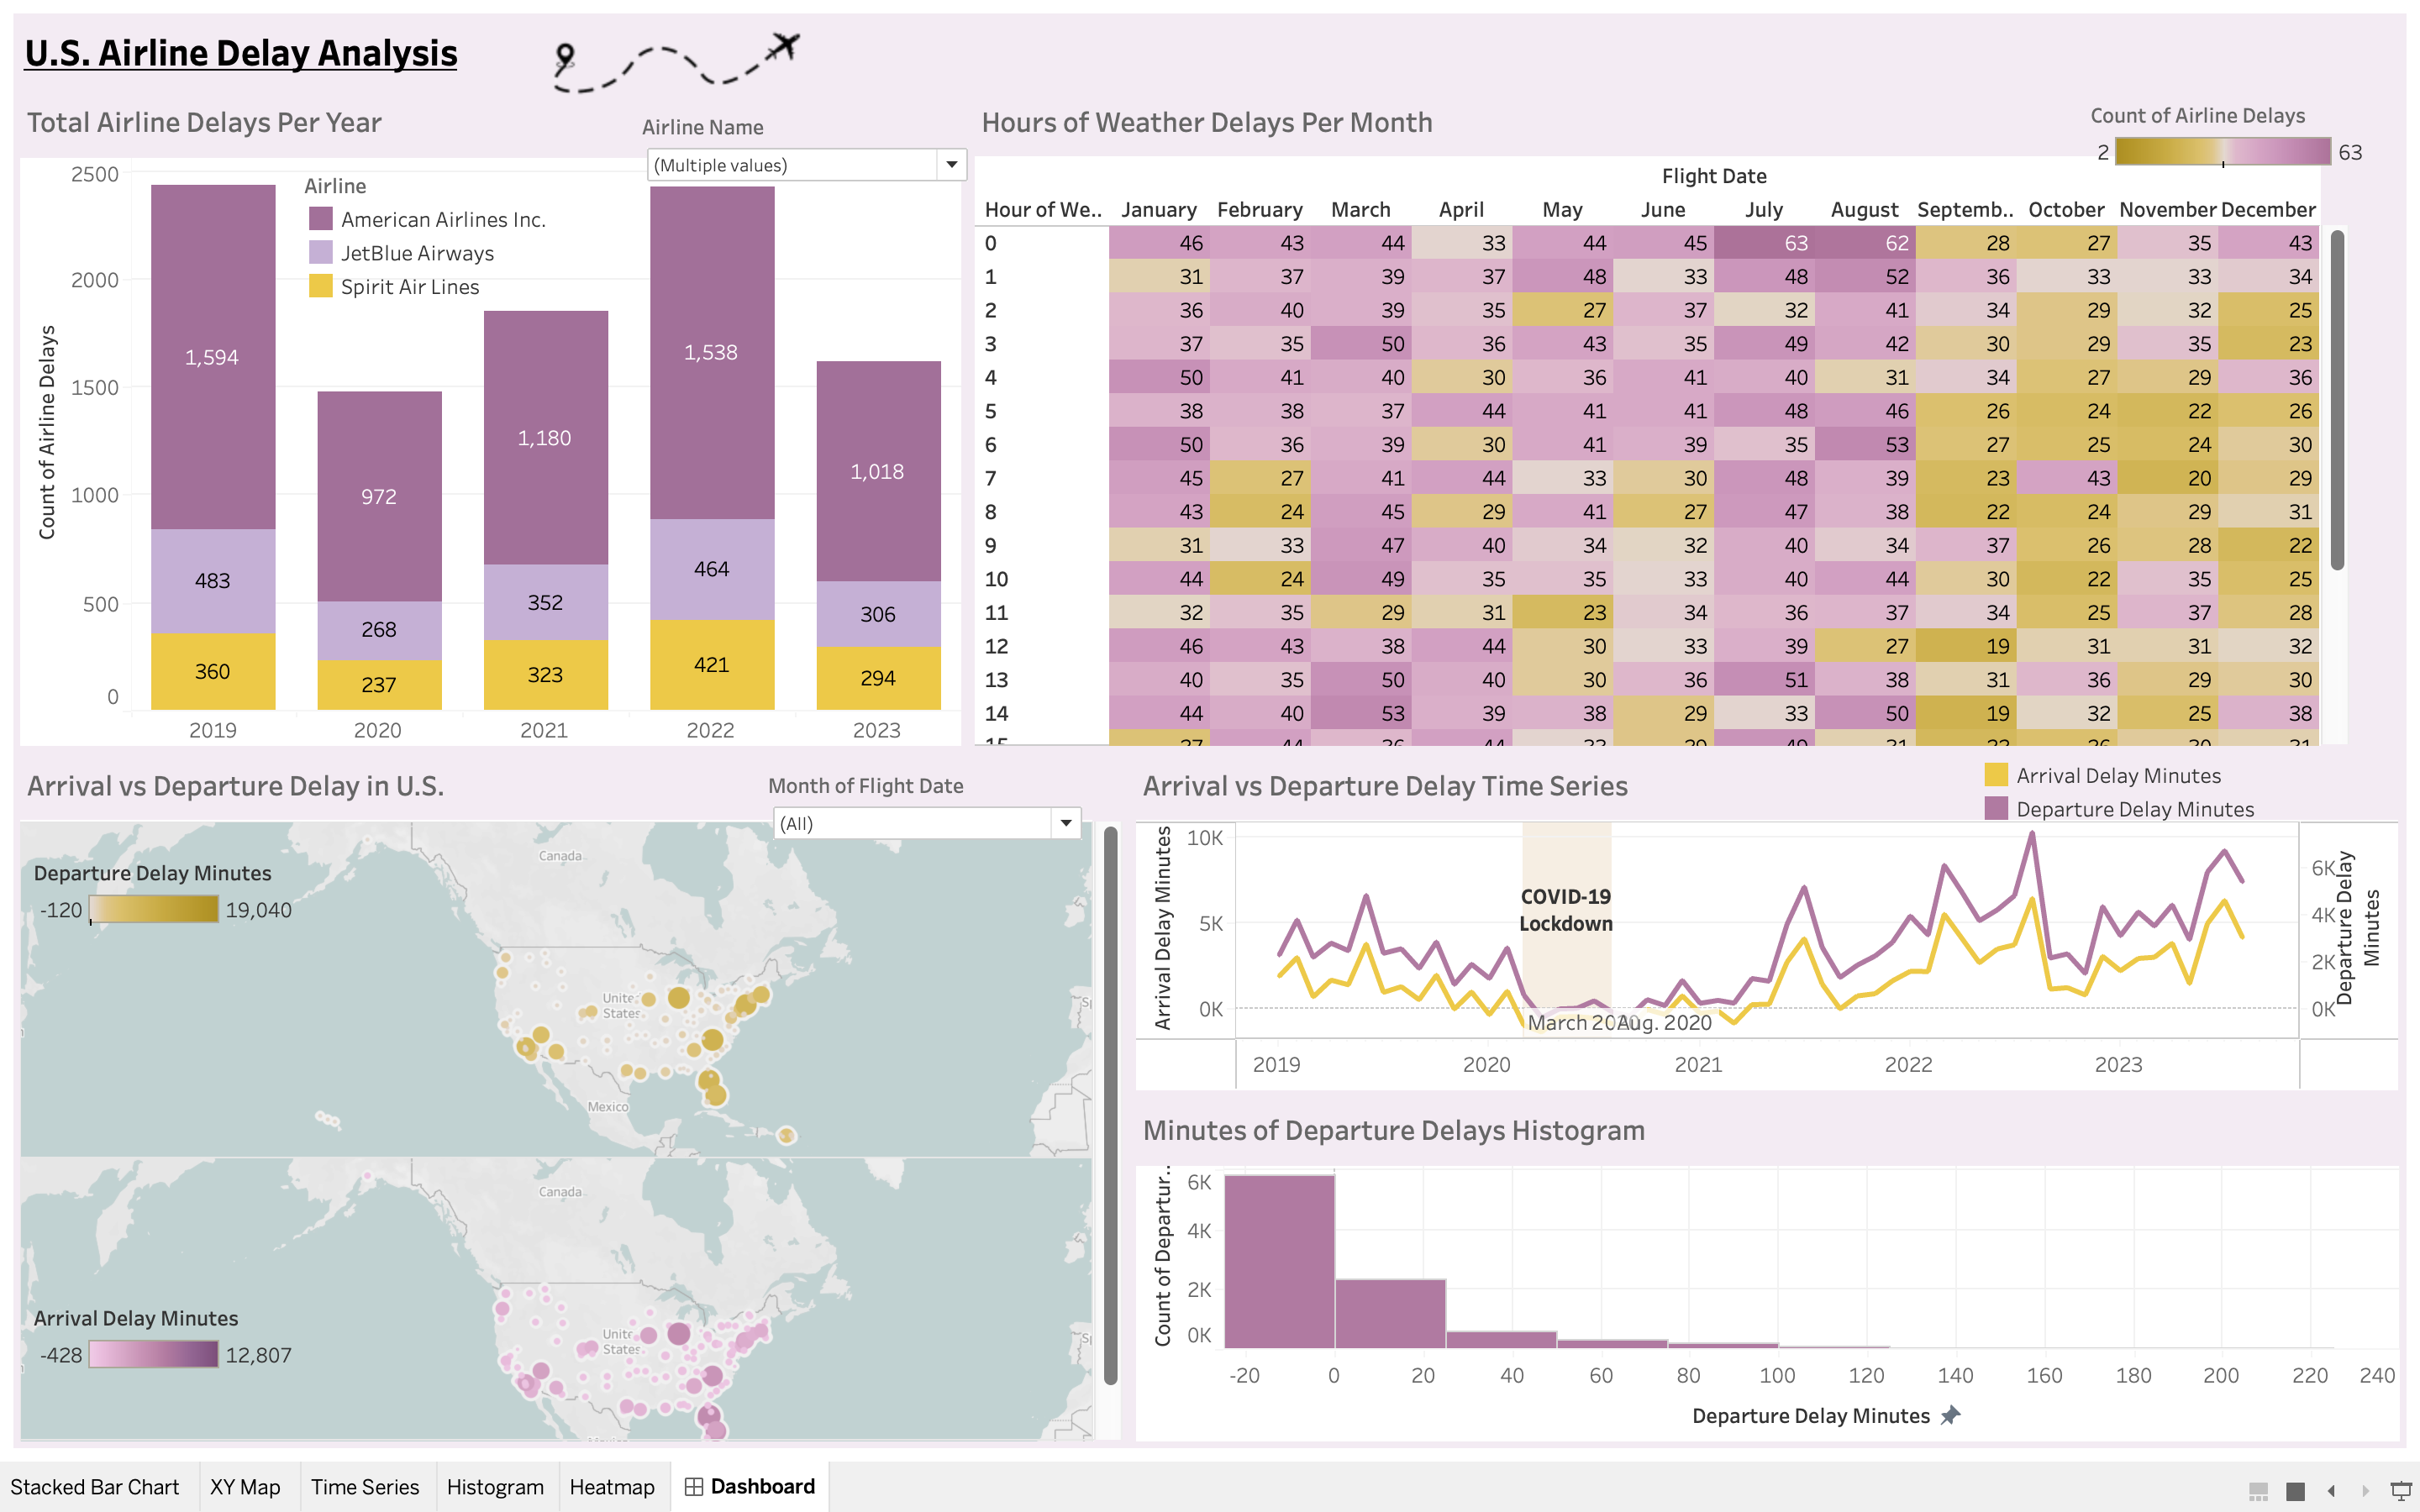

This screenshot's page, from the dashboard's own definition file:
{"tool":"tableau","page":{"name":"Dashboard","canvas":[1000,1000],"units":"permille","ordinal":0},"visuals":[{"type":"text","box":[6.5,11.4,987.1,51.8]},{"type":"filter","title":"Stacked Bar Chart","param":"[federated.0xvhp291h96joa11bovfc1v546i7].[none:Airline_Name:nk]","box":[221.3,50.7,136.7,64.4]},{"type":"worksheet","title":"Stacked Bar Chart","mark":"Bar","rows":["Airline Delays.csv_3B6A3B30201E4E5BA97D2194F4AA757A"],"cols":["Flight_Date"],"box":[6.5,63.2,355.2,457]},{"type":"worksheet","title":"Heatmap","mark":"Automatic","rows":["Weather_Delay_HH_MM"],"cols":["Flight_Date"],"box":[361.7,63.2,631.9,457]},{"type":"legend","title":"Heatmap","param":"[federated.0xvhp291h96joa11bovfc1v546i7].[__tableau_internal_object_id__].[cnt:A","box":[864.1,69.3,115.8,68.1]},{"type":"legend","title":"Stacked Bar Chart","param":"[federated.0xvhp291h96joa11bovfc1v546i7].[none:Airline_Name:nk]","box":[118,95.3,142.4,97.8]},{"type":"legend","title":"Time Series","param":"[federated.0xvhp291h96joa11bovfc1v546i7].[:Measure Names]","box":[818.3,497.5,131.8,71.8]},{"type":"worksheet","title":"XY Map ","mark":"Automatic","box":[6.5,520.2,454.9,468.4]},{"type":"worksheet","title":"Time Series","mark":"Automatic","rows":["Arrival_Delay_Minutes","Departure_Delay_Minutes"],"cols":["Flight_Date"],"box":[461.4,520.2,532.2,230.5]},{"type":"filter","title":"XY Map ","param":"[federated.0xvhp291h96joa11bovfc1v546i7].[mn:Flight_Date:ok]","box":[317.5,527.2,131.8,64.4]},{"type":"legend","title":"XY Map ","param":"[federated.0xvhp291h96joa11bovfc1v546i7].[sum:Departure_Delay_Minutes:qk]","box":[14.2,587.9,110.3,94.1]},{"type":"worksheet","title":"Histogram","mark":"Automatic","rows":["Departure_Delay_Minutes"],"cols":["Departure Delay Minutes (bin)"],"box":[461.4,750.7,532.2,237.8]},{"type":"legend","title":"XY Map ","param":"[federated.0xvhp291h96joa11bovfc1v546i7].[sum:Arrival_Delay_Minutes:qk]","box":[14.2,892.3,110.3,94.1]}]}

Visuals, with their boxes on the dashboard's canvas, which has no fixed pixel size, in thousandths of its width and height (x1, y1, x2, y2). These are canvas units, not pixel positions in the 2420x1512 screenshot, which may show the page scaled, cropped or inside an application window:
text: box(6, 11, 994, 63)
"Stacked Bar Chart" filter: box(221, 51, 358, 115)
"Stacked Bar Chart" worksheet (Bar marks): box(6, 63, 362, 520)
"Heatmap" worksheet: box(362, 63, 994, 520)
"Heatmap" legend: box(864, 69, 980, 137)
"Stacked Bar Chart" legend: box(118, 95, 260, 193)
"Time Series" legend: box(818, 498, 950, 569)
"XY Map " worksheet: box(6, 520, 461, 989)
"Time Series" worksheet: box(461, 520, 994, 751)
"XY Map " filter: box(318, 527, 449, 592)
"XY Map " legend: box(14, 588, 124, 682)
"Histogram" worksheet: box(461, 751, 994, 988)
"XY Map " legend: box(14, 892, 124, 986)
